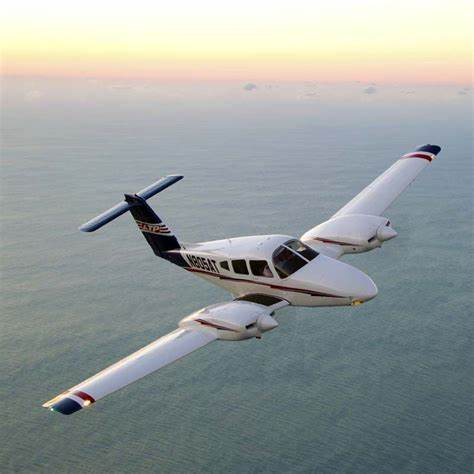Aeronef_commercial: (37, 141, 461, 416)
